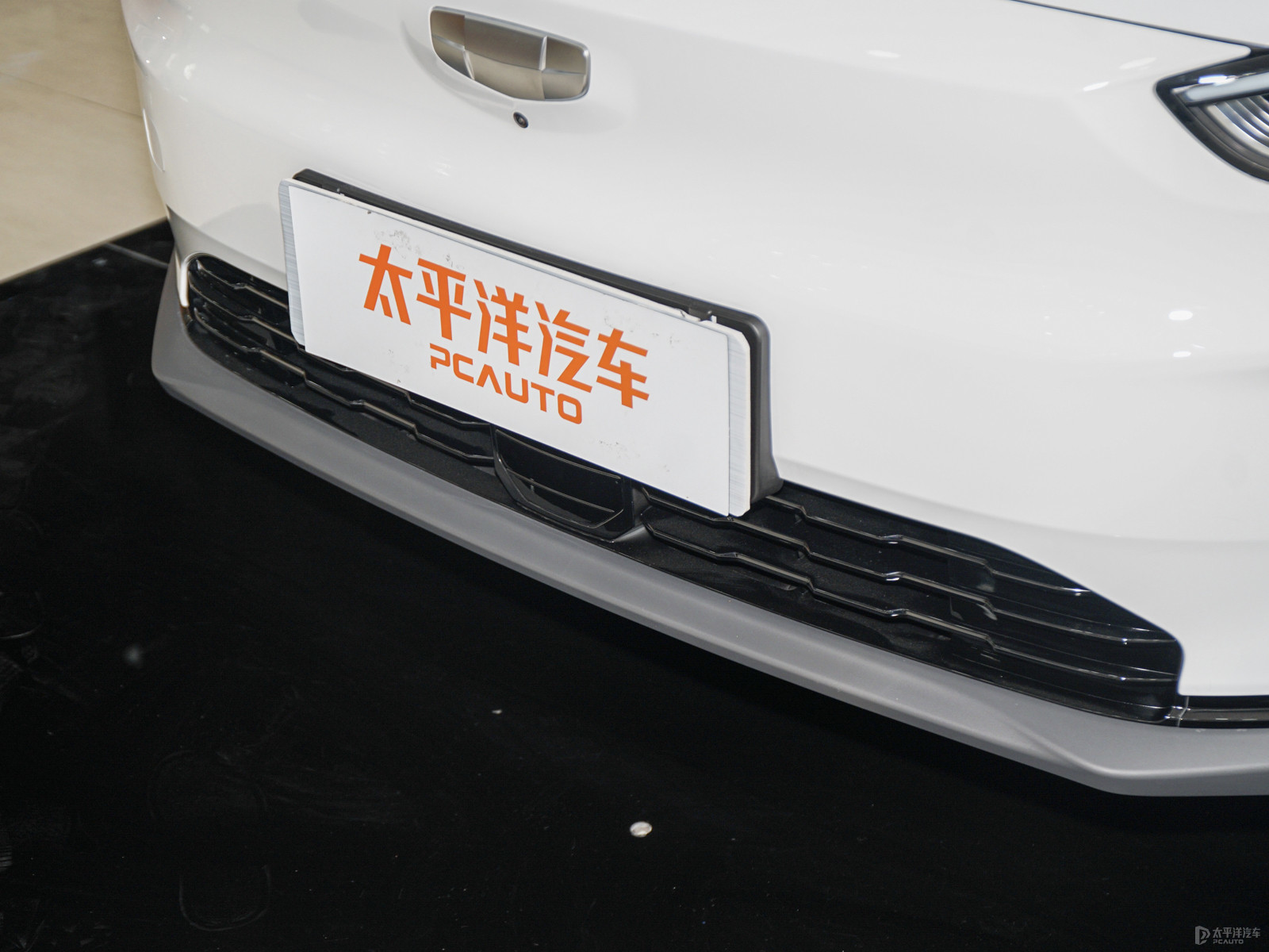GEOMETRY: (431, 7, 589, 100)
